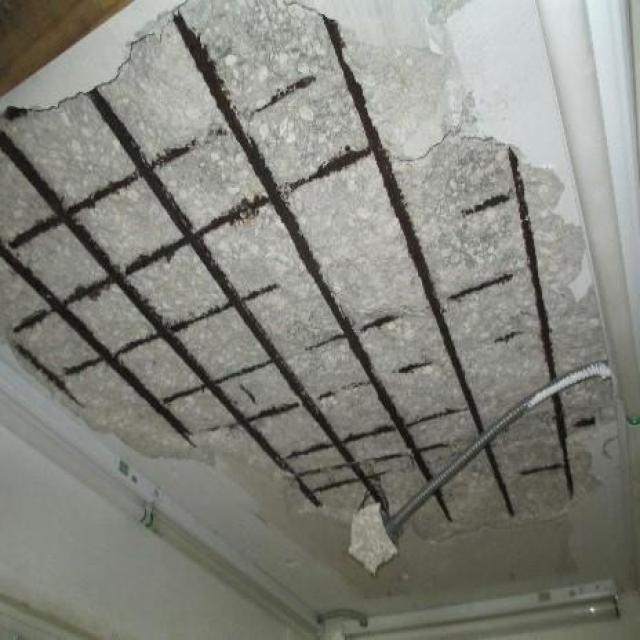Rebar: (0, 0, 615, 544)
